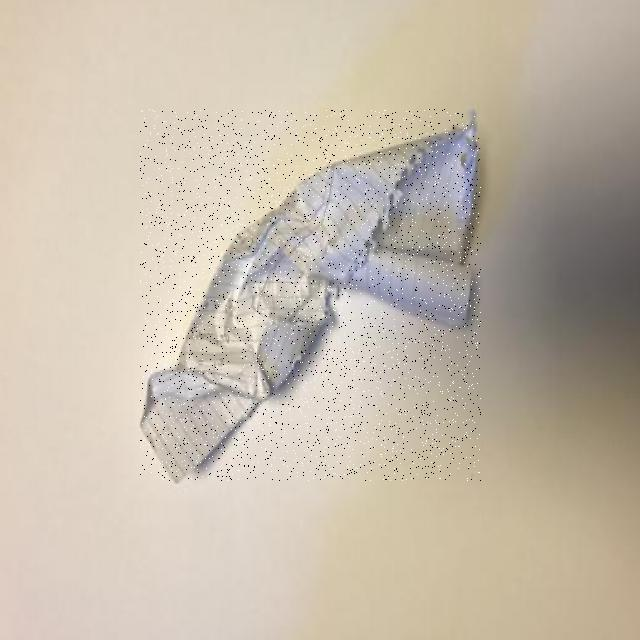paper: (140, 109, 481, 481)
